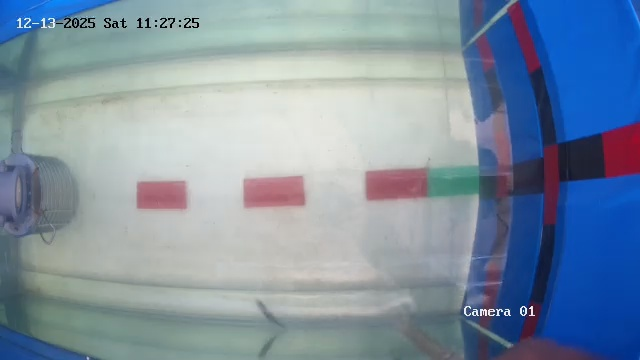fish: (257, 301, 297, 328)
